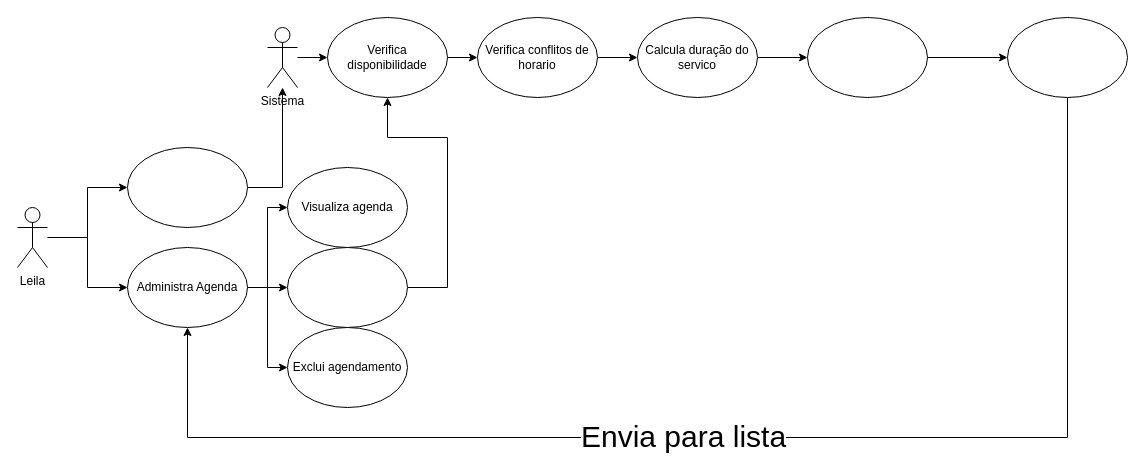
Image size: 1145x471. Some labels were removed from this diagram. Here are the shapes that lost their labels. From the top down, the box of each, then its label:
(806, 16, 928, 98): Valida agendamento
(1006, 16, 1128, 98): Realiza agendamento no banco de daods
(126, 146, 248, 228): Cria agendamento
(286, 246, 408, 328): Editar agendamento
